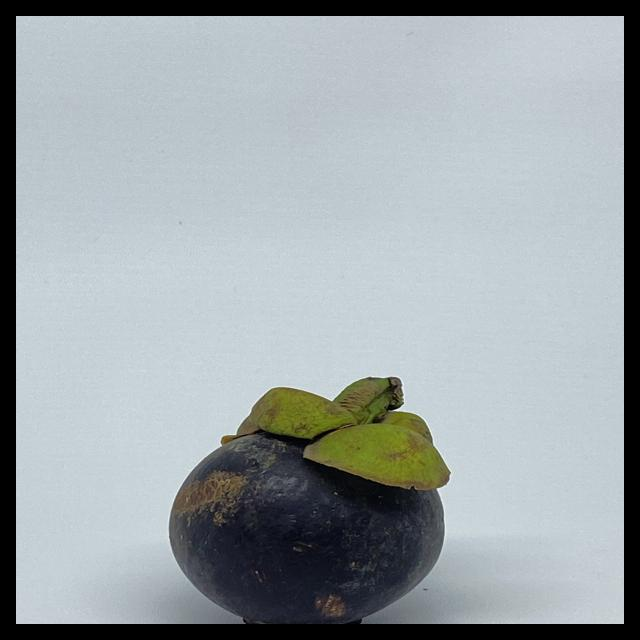mangosteen: (144, 361, 488, 624)
